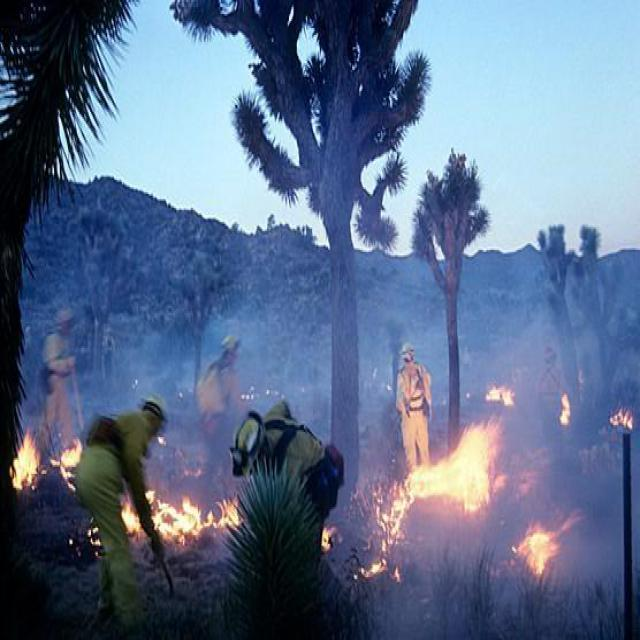Fire: (376, 421, 501, 541), (130, 473, 242, 556), (513, 518, 586, 580), (354, 550, 415, 592), (10, 433, 44, 495), (474, 376, 524, 413), (318, 512, 342, 566), (607, 399, 638, 439), (556, 392, 578, 433)
Smoke: (514, 435, 608, 509), (499, 319, 566, 375)
